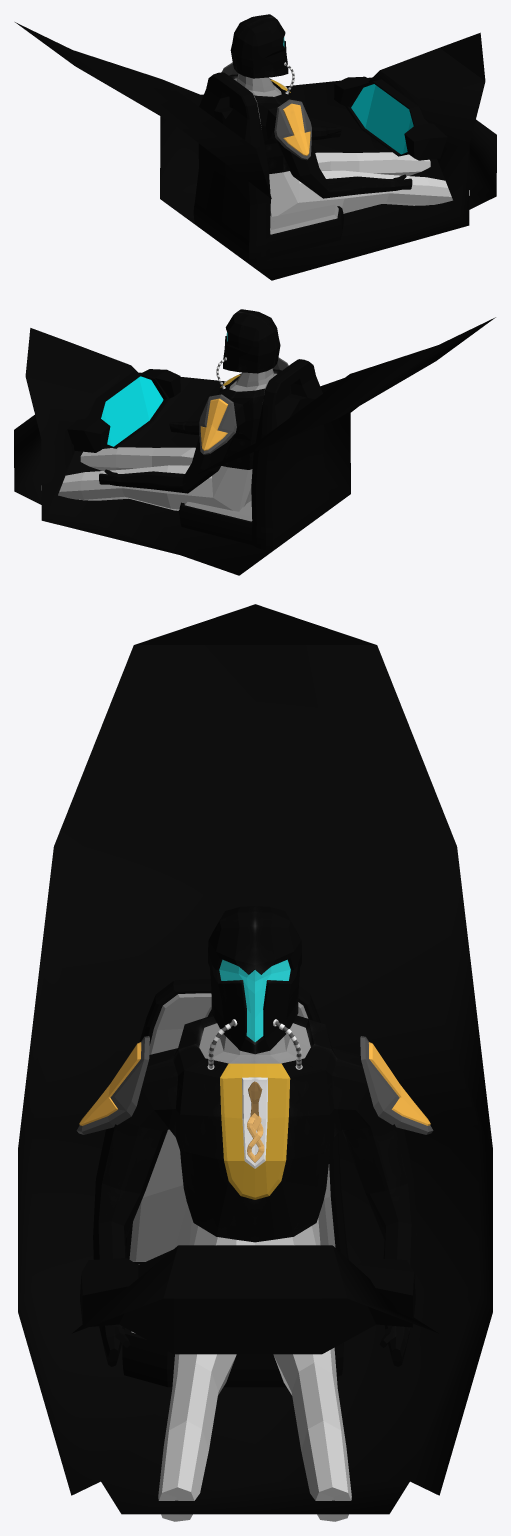
The model's file is cockpit.fbx.
3 renders of one model, top to bottom at view 1: azimuth 30°, elevation 25°; view 2: azimuth 150°, elevation 25°; view 3: azimuth 270°, elevation 25°, orthographic. The views are drawn at different scales.
Visible parts, largest first — view 1: Cock_Pit, Chair, Main_Body, Legs, Console, Shoulder_Pads; view 2: Cock_Pit, Chair, Main_Body, Legs, Console, Shoulder_Pads; view 3: Cock_Pit, Main_Body, Console, Legs, Chair, Shoulder_Pads.
Boxes of the visible parts, left/top/right/bottom form: Cock_Pit: left=15, top=22, right=496, bottom=280; Chair: left=193, top=72, right=343, bottom=263; Main_Body: left=229, top=14, right=412, bottom=198; Legs: left=269, top=152, right=469, bottom=216; Console: left=334, top=76, right=447, bottom=160; Shoulder_Pads: left=222, top=62, right=311, bottom=160; Cock_Pit: left=14, top=317, right=495, bottom=575; Chair: left=178, top=359, right=328, bottom=550; Main_Body: left=99, top=309, right=291, bottom=493; Legs: left=41, top=447, right=252, bottom=511; Console: left=67, top=369, right=180, bottom=452; Shoulder_Pads: left=199, top=357, right=288, bottom=454; Cock_Pit: left=18, top=604, right=492, bottom=1514; Main_Body: left=93, top=906, right=416, bottom=1366; Console: left=80, top=1250, right=415, bottom=1354; Legs: left=158, top=1218, right=351, bottom=1521; Chair: left=122, top=979, right=348, bottom=1387; Shoulder_Pads: left=76, top=1036, right=433, bottom=1134.
Size of the model in its own units: 161 by 92.95 by 75.84.
